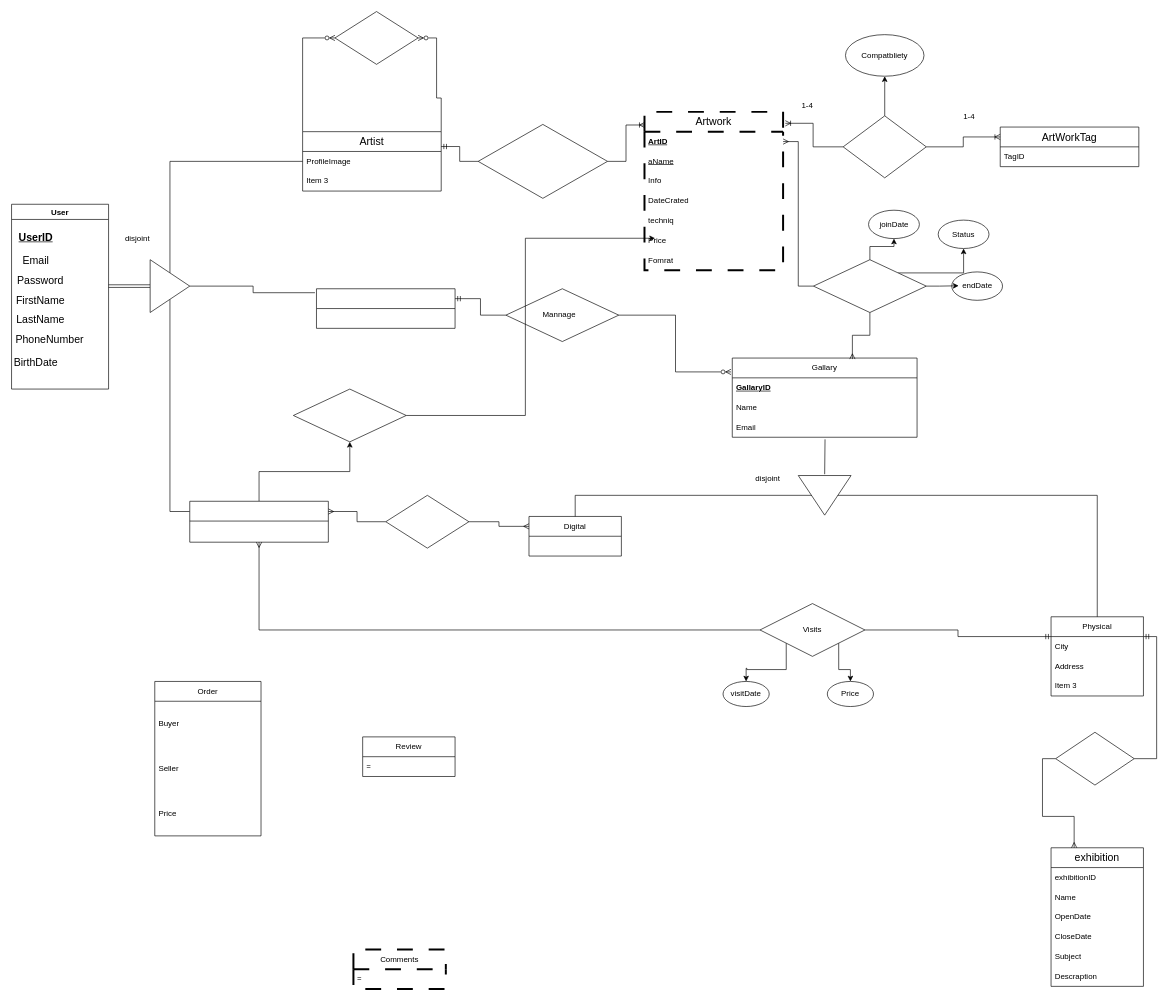
Image size: 1173x1001. Some labels were removed from this diagram. Each missing label, with the centre of its shape:
Created: (x=543, y=161)
Cretic: (x=258, y=521)
Curator: (x=385, y=308)
Displays: (x=1094, y=758)
Follows: (x=376, y=37)
Liked: (x=427, y=521)
Purchsed: (x=349, y=415)
Request: (x=869, y=286)
TaggedIN: (x=884, y=146)
